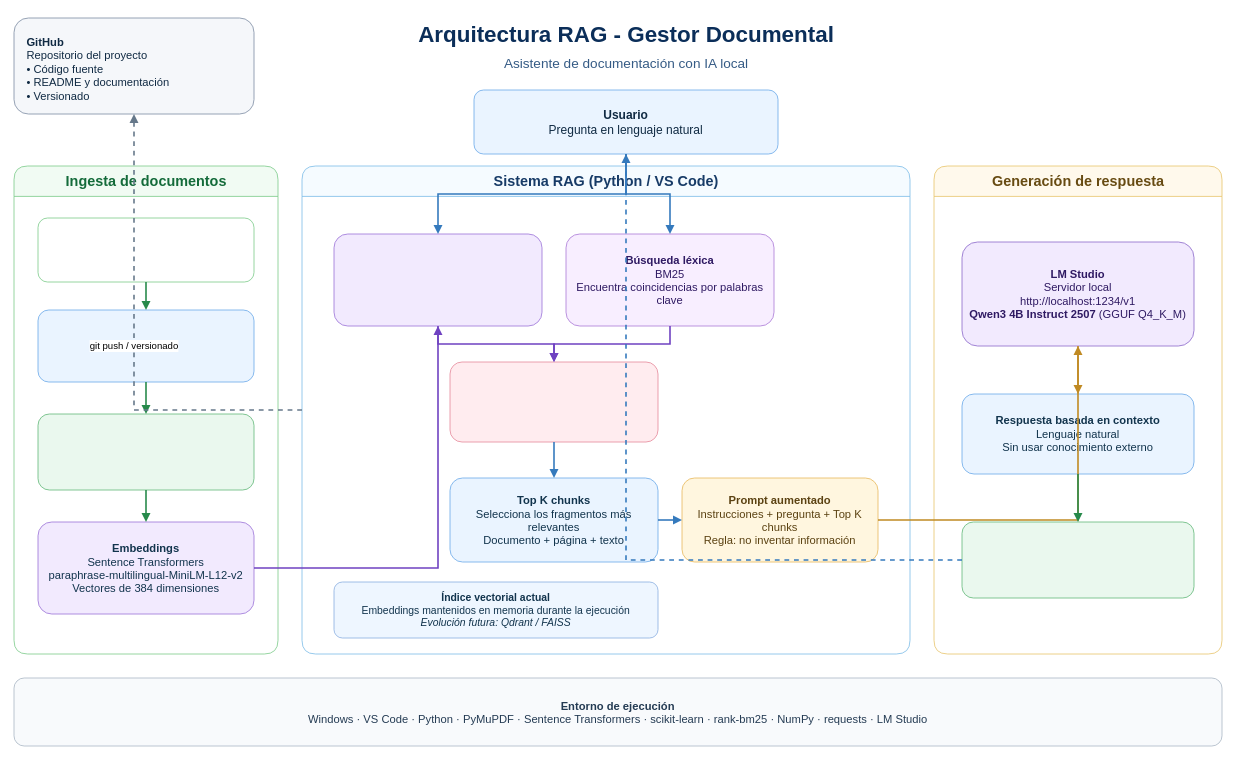
This 1236x760 diagram has some shape labels left out. Here are the shapes that lost their labels. From the top down, the centre of each, then its label:
At [145,249]: "Documentos PDF Manuales, guías, procedimientos...".
At [437,279]: "Búsqueda semántica Cosine similarity Encuentra significado similar".
At [145,345]: "Extracción de texto PyMuPDF Conserva documento y página".
At [553,401]: "Hybrid Search 70% semántico + 30% BM25 Combina y ordena scores".
At [145,451]: "Chunking Fragmentos por párrafos Tamaño máximo + metadatos".
At [1077,559]: "Fuentes Documento + página Fragmentos recuperados y score".
